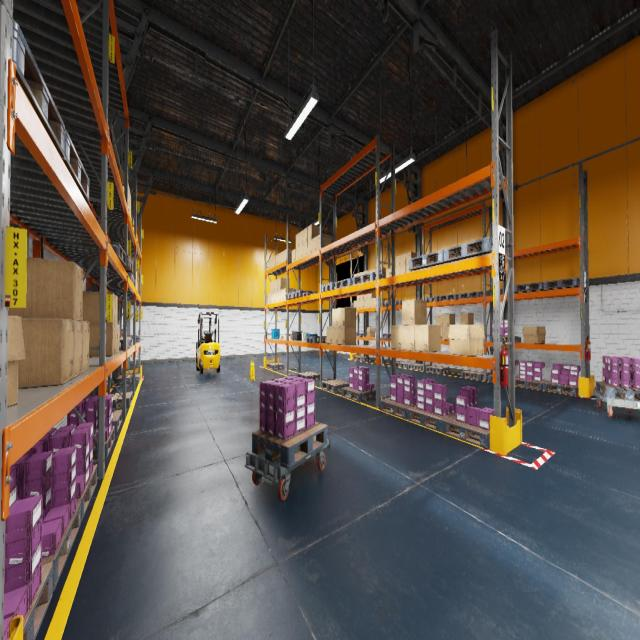box: (8, 256, 83, 321), (18, 318, 74, 389), (7, 316, 25, 407), (448, 324, 484, 356), (83, 291, 115, 324), (89, 324, 115, 357), (415, 325, 440, 352), (402, 299, 427, 325), (73, 320, 82, 378), (522, 327, 546, 343), (82, 320, 89, 372), (338, 307, 356, 326), (338, 326, 356, 345), (402, 325, 415, 351), (391, 325, 402, 350), (317, 234, 332, 250), (308, 224, 320, 241), (442, 314, 455, 327), (284, 288, 296, 300), (278, 277, 289, 290), (460, 313, 473, 324), (118, 170, 125, 189), (406, 252, 417, 264), (284, 248, 293, 262), (332, 326, 338, 344), (332, 308, 338, 326), (442, 327, 450, 340), (327, 326, 332, 344), (366, 328, 376, 337), (307, 239, 312, 255), (436, 314, 442, 327), (376, 298, 385, 306), (400, 253, 406, 265), (303, 227, 307, 244), (312, 236, 316, 252), (299, 230, 303, 246), (295, 233, 299, 248), (299, 244, 303, 259), (400, 264, 406, 274), (115, 325, 117, 354), (115, 295, 117, 324), (118, 324, 120, 352), (303, 242, 307, 256), (295, 247, 299, 260), (380, 266, 385, 276), (386, 268, 391, 278), (280, 289, 284, 301), (368, 292, 376, 298), (128, 186, 130, 209), (396, 255, 400, 266), (131, 259, 134, 273), (372, 298, 376, 308), (406, 264, 411, 272), (396, 265, 400, 275), (131, 217, 134, 230), (292, 249, 295, 262), (121, 180, 124, 192), (281, 250, 284, 262), (278, 252, 281, 264), (275, 254, 278, 266), (275, 279, 278, 291), (360, 300, 364, 309), (353, 300, 357, 309), (275, 291, 278, 302), (391, 268, 395, 276), (368, 298, 371, 308), (364, 299, 367, 308), (357, 300, 360, 309), (440, 327, 442, 340), (284, 335, 290, 339), (278, 290, 280, 302), (273, 291, 275, 303), (273, 280, 275, 292), (270, 281, 272, 293), (360, 294, 364, 300), (273, 256, 275, 267), (268, 259, 270, 270), (268, 293, 270, 304), (270, 258, 272, 268), (270, 293, 272, 303), (372, 268, 376, 272), (368, 269, 372, 273), (364, 270, 368, 274), (364, 294, 367, 299), (357, 295, 360, 300), (289, 336, 292, 340), (357, 272, 360, 276), (137, 282, 138, 292), (280, 336, 284, 338), (131, 216, 132, 223), (361, 272, 364, 274), (284, 336, 285, 338), (128, 204, 128, 208), (128, 182, 128, 204), (130, 192, 130, 215), (129, 207, 129, 213), (130, 211, 130, 219), (137, 235, 137, 238), (138, 238, 138, 241), (133, 273, 133, 276), (136, 280, 136, 290), (137, 281, 137, 291), (137, 271, 137, 281), (391, 258, 391, 268)
forklift: (196, 312, 220, 373)
pallets: (12, 19, 65, 158), (42, 501, 81, 591), (252, 422, 327, 468), (23, 562, 53, 639), (62, 129, 89, 202), (442, 415, 489, 448), (444, 237, 492, 263), (407, 406, 455, 431), (76, 465, 97, 522), (596, 381, 640, 401), (409, 250, 450, 271), (380, 398, 416, 419), (94, 426, 115, 459), (342, 386, 376, 402), (542, 381, 578, 395), (543, 277, 580, 290), (352, 272, 385, 285), (515, 377, 548, 390), (107, 392, 132, 408), (110, 241, 126, 266), (321, 379, 349, 393), (514, 282, 548, 293), (116, 373, 140, 385), (461, 370, 488, 380), (335, 278, 357, 289), (489, 336, 521, 343), (488, 375, 518, 382), (113, 410, 122, 433), (321, 282, 341, 292), (297, 372, 319, 381), (425, 366, 449, 374), (292, 290, 317, 297), (123, 255, 133, 272), (408, 364, 429, 371), (459, 292, 483, 298), (306, 336, 326, 343), (267, 362, 284, 370), (396, 361, 414, 368), (120, 336, 140, 342), (439, 294, 458, 300), (120, 339, 130, 350), (120, 338, 132, 347), (119, 337, 131, 345), (353, 355, 369, 361), (424, 296, 438, 302), (128, 272, 134, 284), (285, 292, 295, 299), (381, 302, 398, 306), (391, 300, 402, 305), (356, 333, 367, 337), (382, 334, 391, 337), (134, 278, 135, 288)
